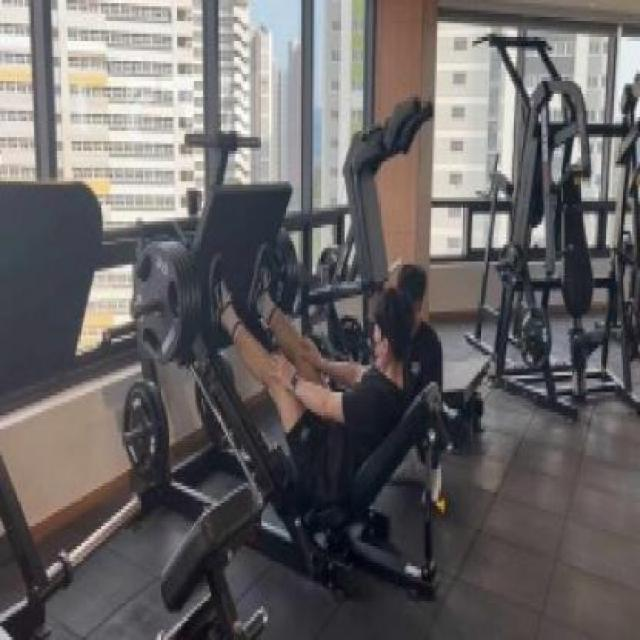leg press: (92, 122, 472, 608)
